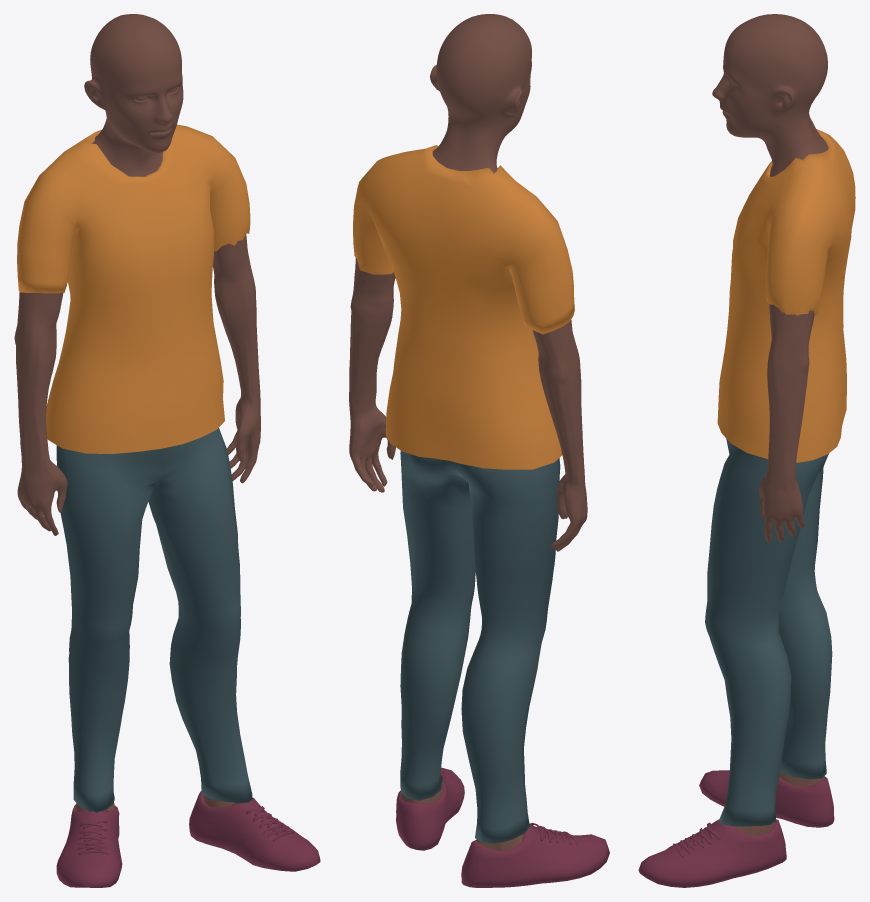
Rendered from Man_08_Standing-transformed.glb.
3 views of the same model, side by side, from view 1: azimuth 30°, elevation 25°; view 2: azimuth 150°, elevation 25°; view 3: azimuth 270°, elevation 25° (orthographic). The views are drawn at different scales.
Visible parts, largest first — view 1: Top.001, Bottoms.001, Body.001, Shoes.001; view 2: Top.001, Bottoms.001, Body.001, Shoes.001; view 3: Bottoms.001, Top.001, Body.001, Shoes.001.
Part boxes in pixels (x1,y1,x2,y2): Top.001: (17,124,250,453); Bottoms.001: (56,428,252,812); Body.001: (14,14,260,812); Shoes.001: (56,790,320,887); Top.001: (353,145,574,469); Bottoms.001: (400,451,560,843); Body.001: (349,14,587,850); Shoes.001: (396,767,609,887); Bottoms.001: (705,439,832,826); Top.001: (717,129,855,462); Body.001: (712,14,828,835); Shoes.001: (638,770,834,887).
Size of the model in its own units: 0.4958 by 1.69 by 0.4106.
